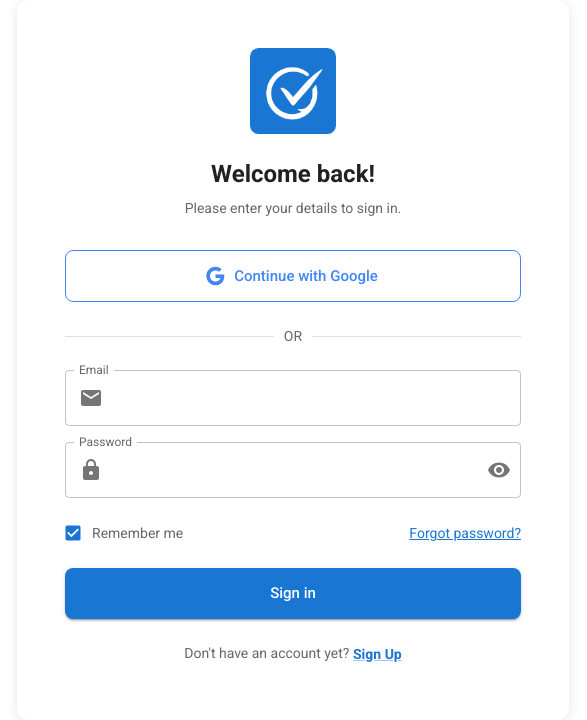
Test: Authentication › Login Form Display › should toggle to register mode when clicking Sign Up
The width and height of the screenshot is (587, 720).
(page scrolled)
Click the button "Sign Up".
click(378, 654)  # box [353,644,402,664]
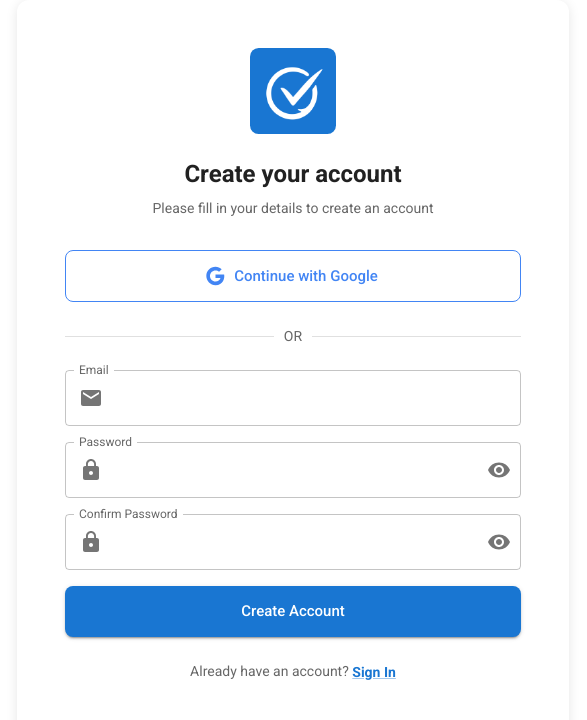
expect the heading "Create your account" is shown: met, box [184,160,402,188]
expect the number of password fields is 2: met, box [111,442,471,498]; [111,514,471,570]
expect the text "Already have an account?" is shown: met, box [190,663,349,679]
